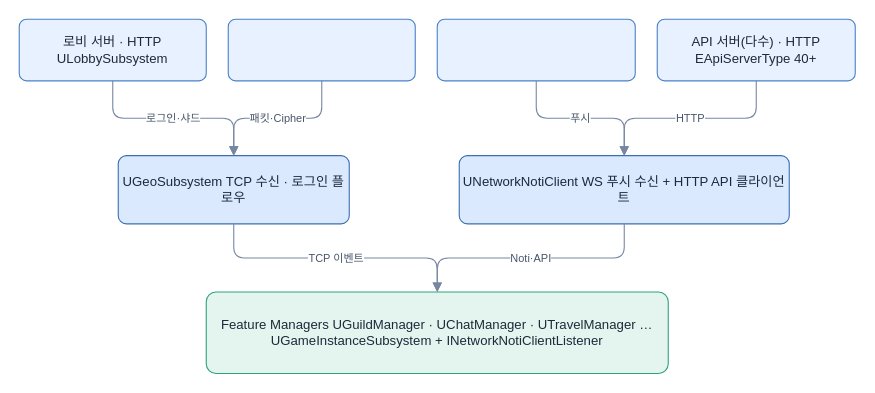
The diagram is 875 pixels wide and 393 high, and some of its shapes have lost their labels. The centre of each missing label's shape, as x and y in pixels:
"Noti 서버 · WebSocket UNetworkNotiClient" goes at [535,49].
"게임 서버 Geo · TCP NetworkClient" goes at [321,49].
